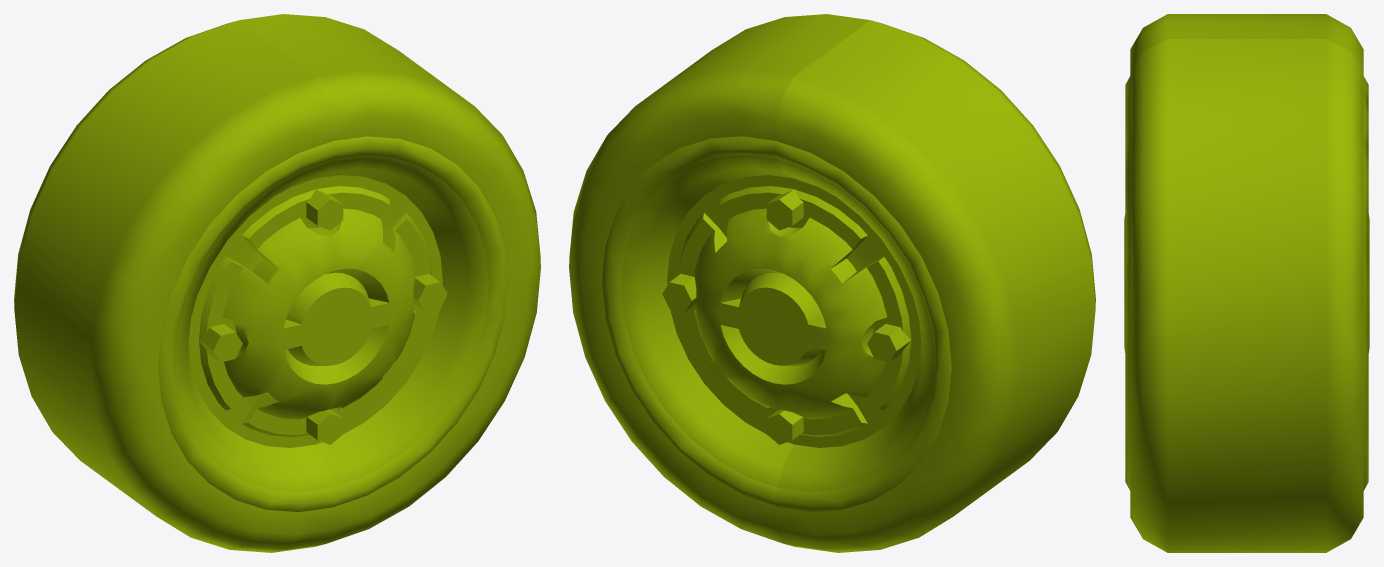
The model's file is obj_vehicle_gripwheel_9x.fbx.
3 views of the same model, side by side, from view 1: azimuth 30°, elevation 25°; view 2: azimuth 150°, elevation 25°; view 3: azimuth 270°, elevation 25° (orthographic). The views are drawn at different scales.
Visible parts, largest first — view 1: gripwheel_9x_lod0.001; view 2: gripwheel_9x_lod0.001; view 3: gripwheel_9x_lod0.001.
Boxes of the visible parts, left/top/right/bottom form: gripwheel_9x_lod0.001: left=14, top=14, right=540, bottom=552; gripwheel_9x_lod0.001: left=569, top=14, right=1095, bottom=552; gripwheel_9x_lod0.001: left=1124, top=14, right=1369, bottom=552.
Size of the model in its own units: 7 by 7 by 3.18.
